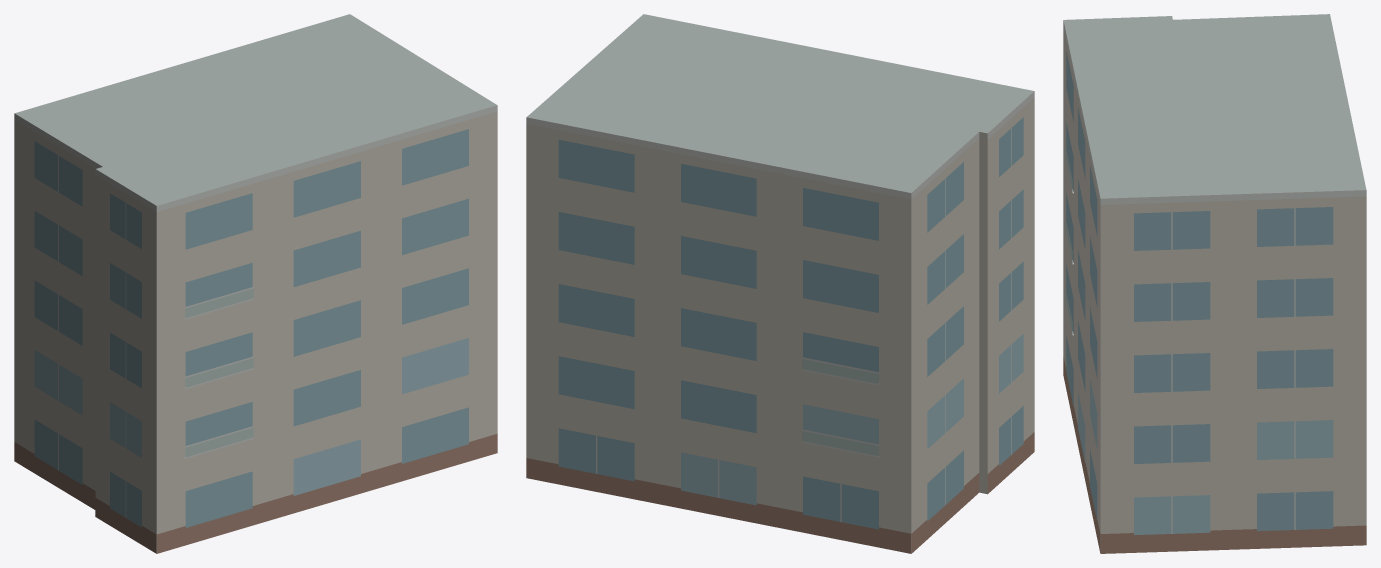
The model's file is survey-upis-33013024.glb.
3 views of the same model, side by side, from view 1: azimuth 30°, elevation 25°; view 2: azimuth 150°, elevation 25°; view 3: azimuth 270°, elevation 25° (orthographic). The views are drawn at different scales.
Visible parts, largest first — view 1: survey-upis-33013024.tmp; view 2: survey-upis-33013024.tmp; view 3: survey-upis-33013024.tmp.
Boxes of the visible parts, <box> form: survey-upis-33013024.tmp: <box>14,14,497,553</box>; survey-upis-33013024.tmp: <box>526,14,1034,553</box>; survey-upis-33013024.tmp: <box>1063,14,1366,553</box>.
Size of the model in its own units: 15.29 by 13.7 by 10.6.
